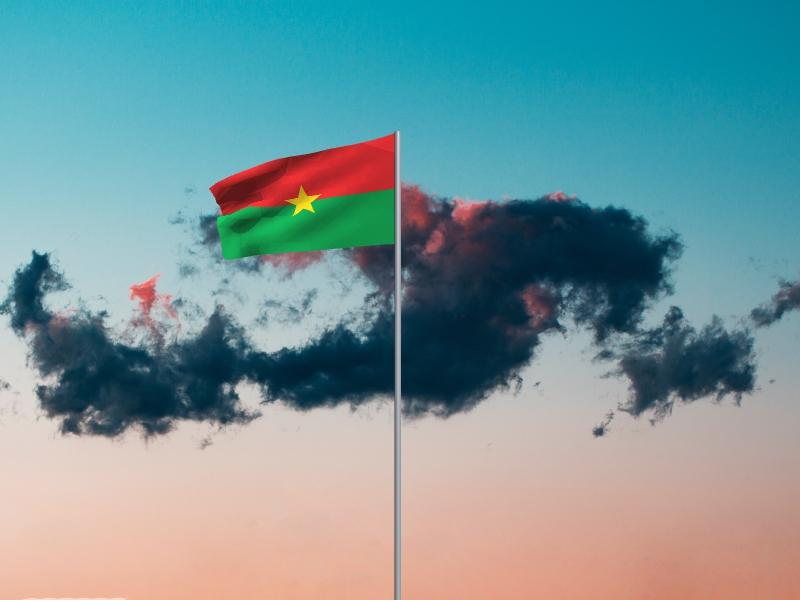bf: (208, 133, 396, 262)
